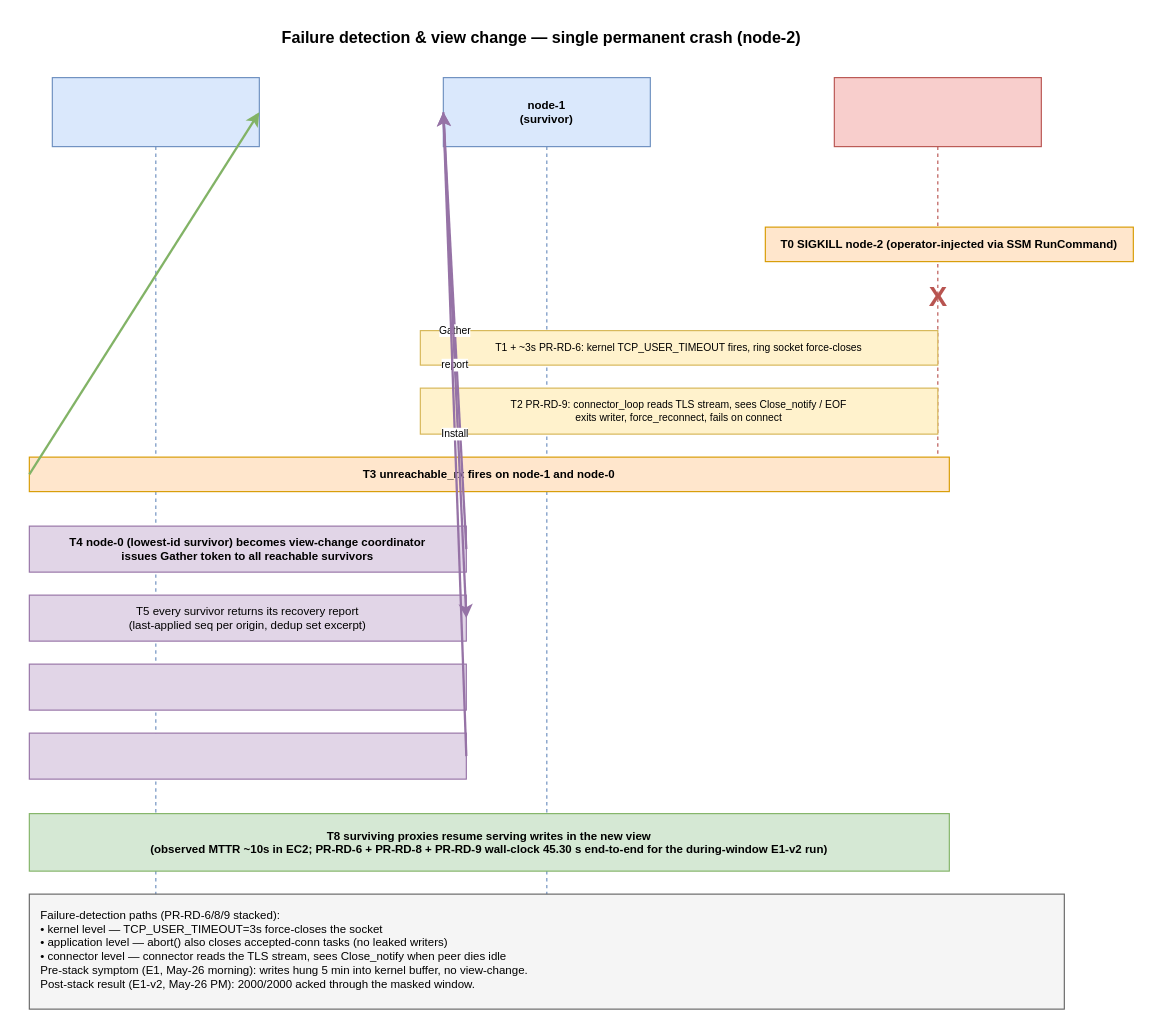
Image size: 1153x1029. Some labels were removed from this diagram. Here are the shapes that lost their labels. From the top down, the centre of each, then its label:
At (155,111): "node-0 (lowest-id survivor = view-change coordinator)".
At (937,111): "node-2 (about to die)".
At (247,686): "T6 coordinator computes recovery plan new ring membership, gap-fill if any holes".
At (247,755): "T7 coordinator issues Install token every survivor applies new view atomically".
